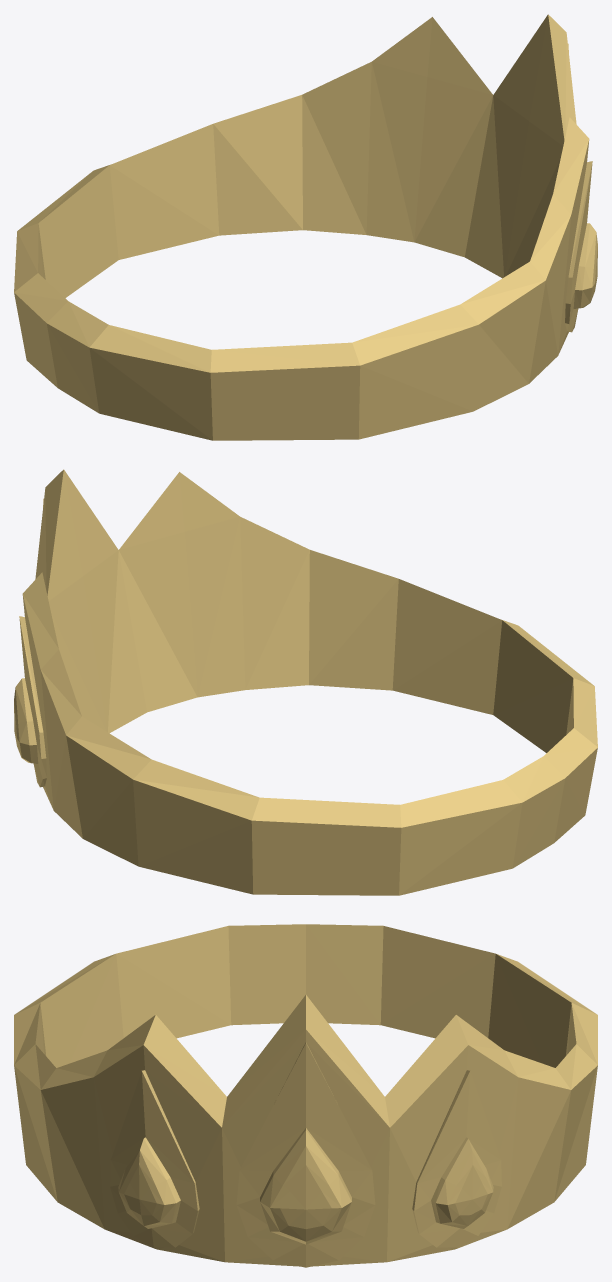
File: FancyCrown_FBX.fbx
3 views of the same model, one above another, from view 1: azimuth 30°, elevation 25°; view 2: azimuth 150°, elevation 25°; view 3: azimuth 270°, elevation 25° (orthographic). The views are drawn at different scales.
Parts seen in each view (by area): view 1: GemMiddle.001; view 2: GemMiddle.001; view 3: GemMiddle.001.
Boxes of the visible parts, x1,y1,x2,y2 form: GemMiddle.001: [14, 14, 597, 440]; GemMiddle.001: [14, 469, 597, 895]; GemMiddle.001: [14, 924, 597, 1267].
Bounding box in the file's own units: 232 × 108 × 204.
